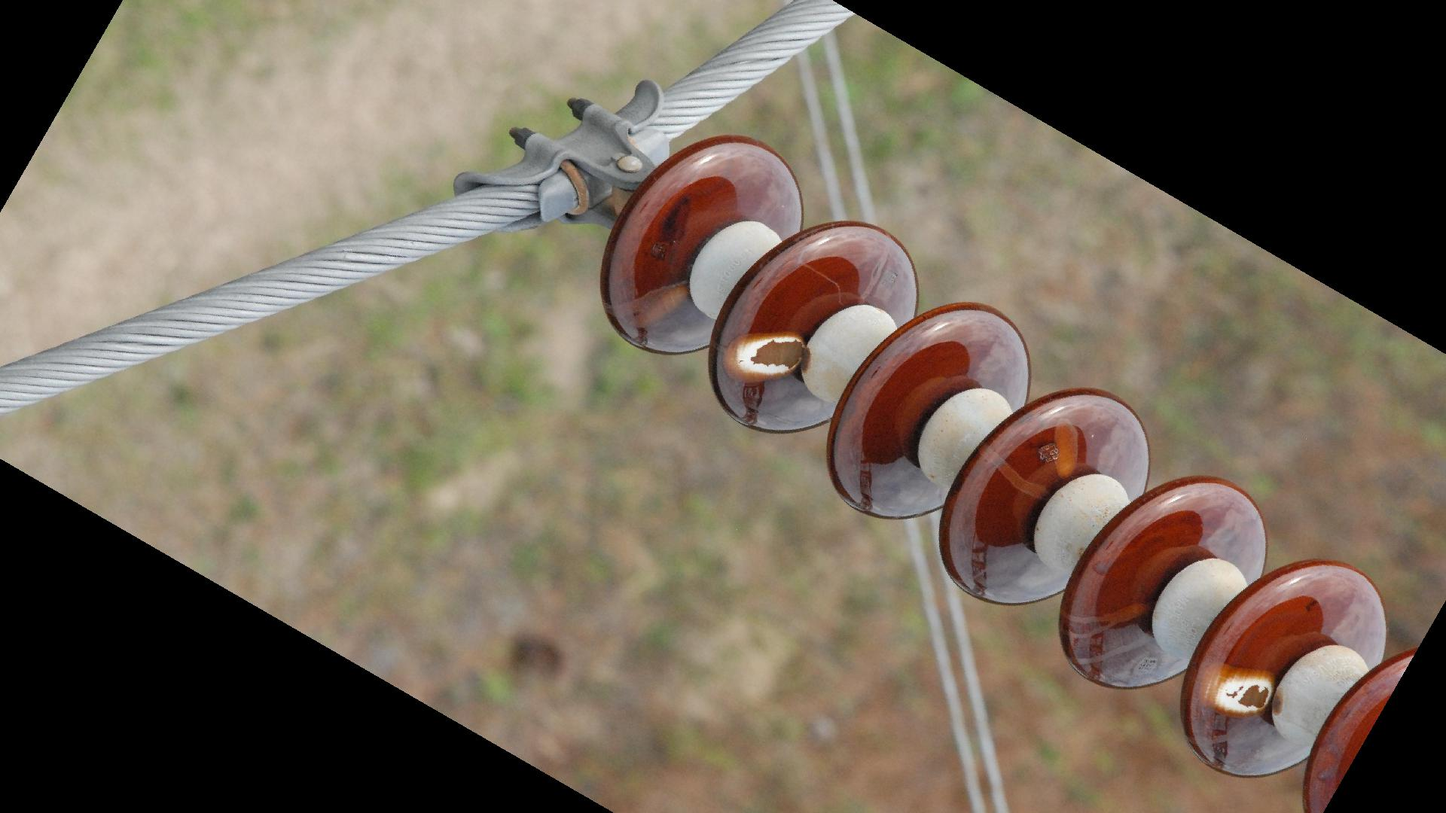insulator: (592, 130, 1422, 813)
insulator_flashover: (719, 327, 810, 387), (609, 277, 691, 334), (1196, 662, 1275, 717), (1050, 413, 1082, 483)
